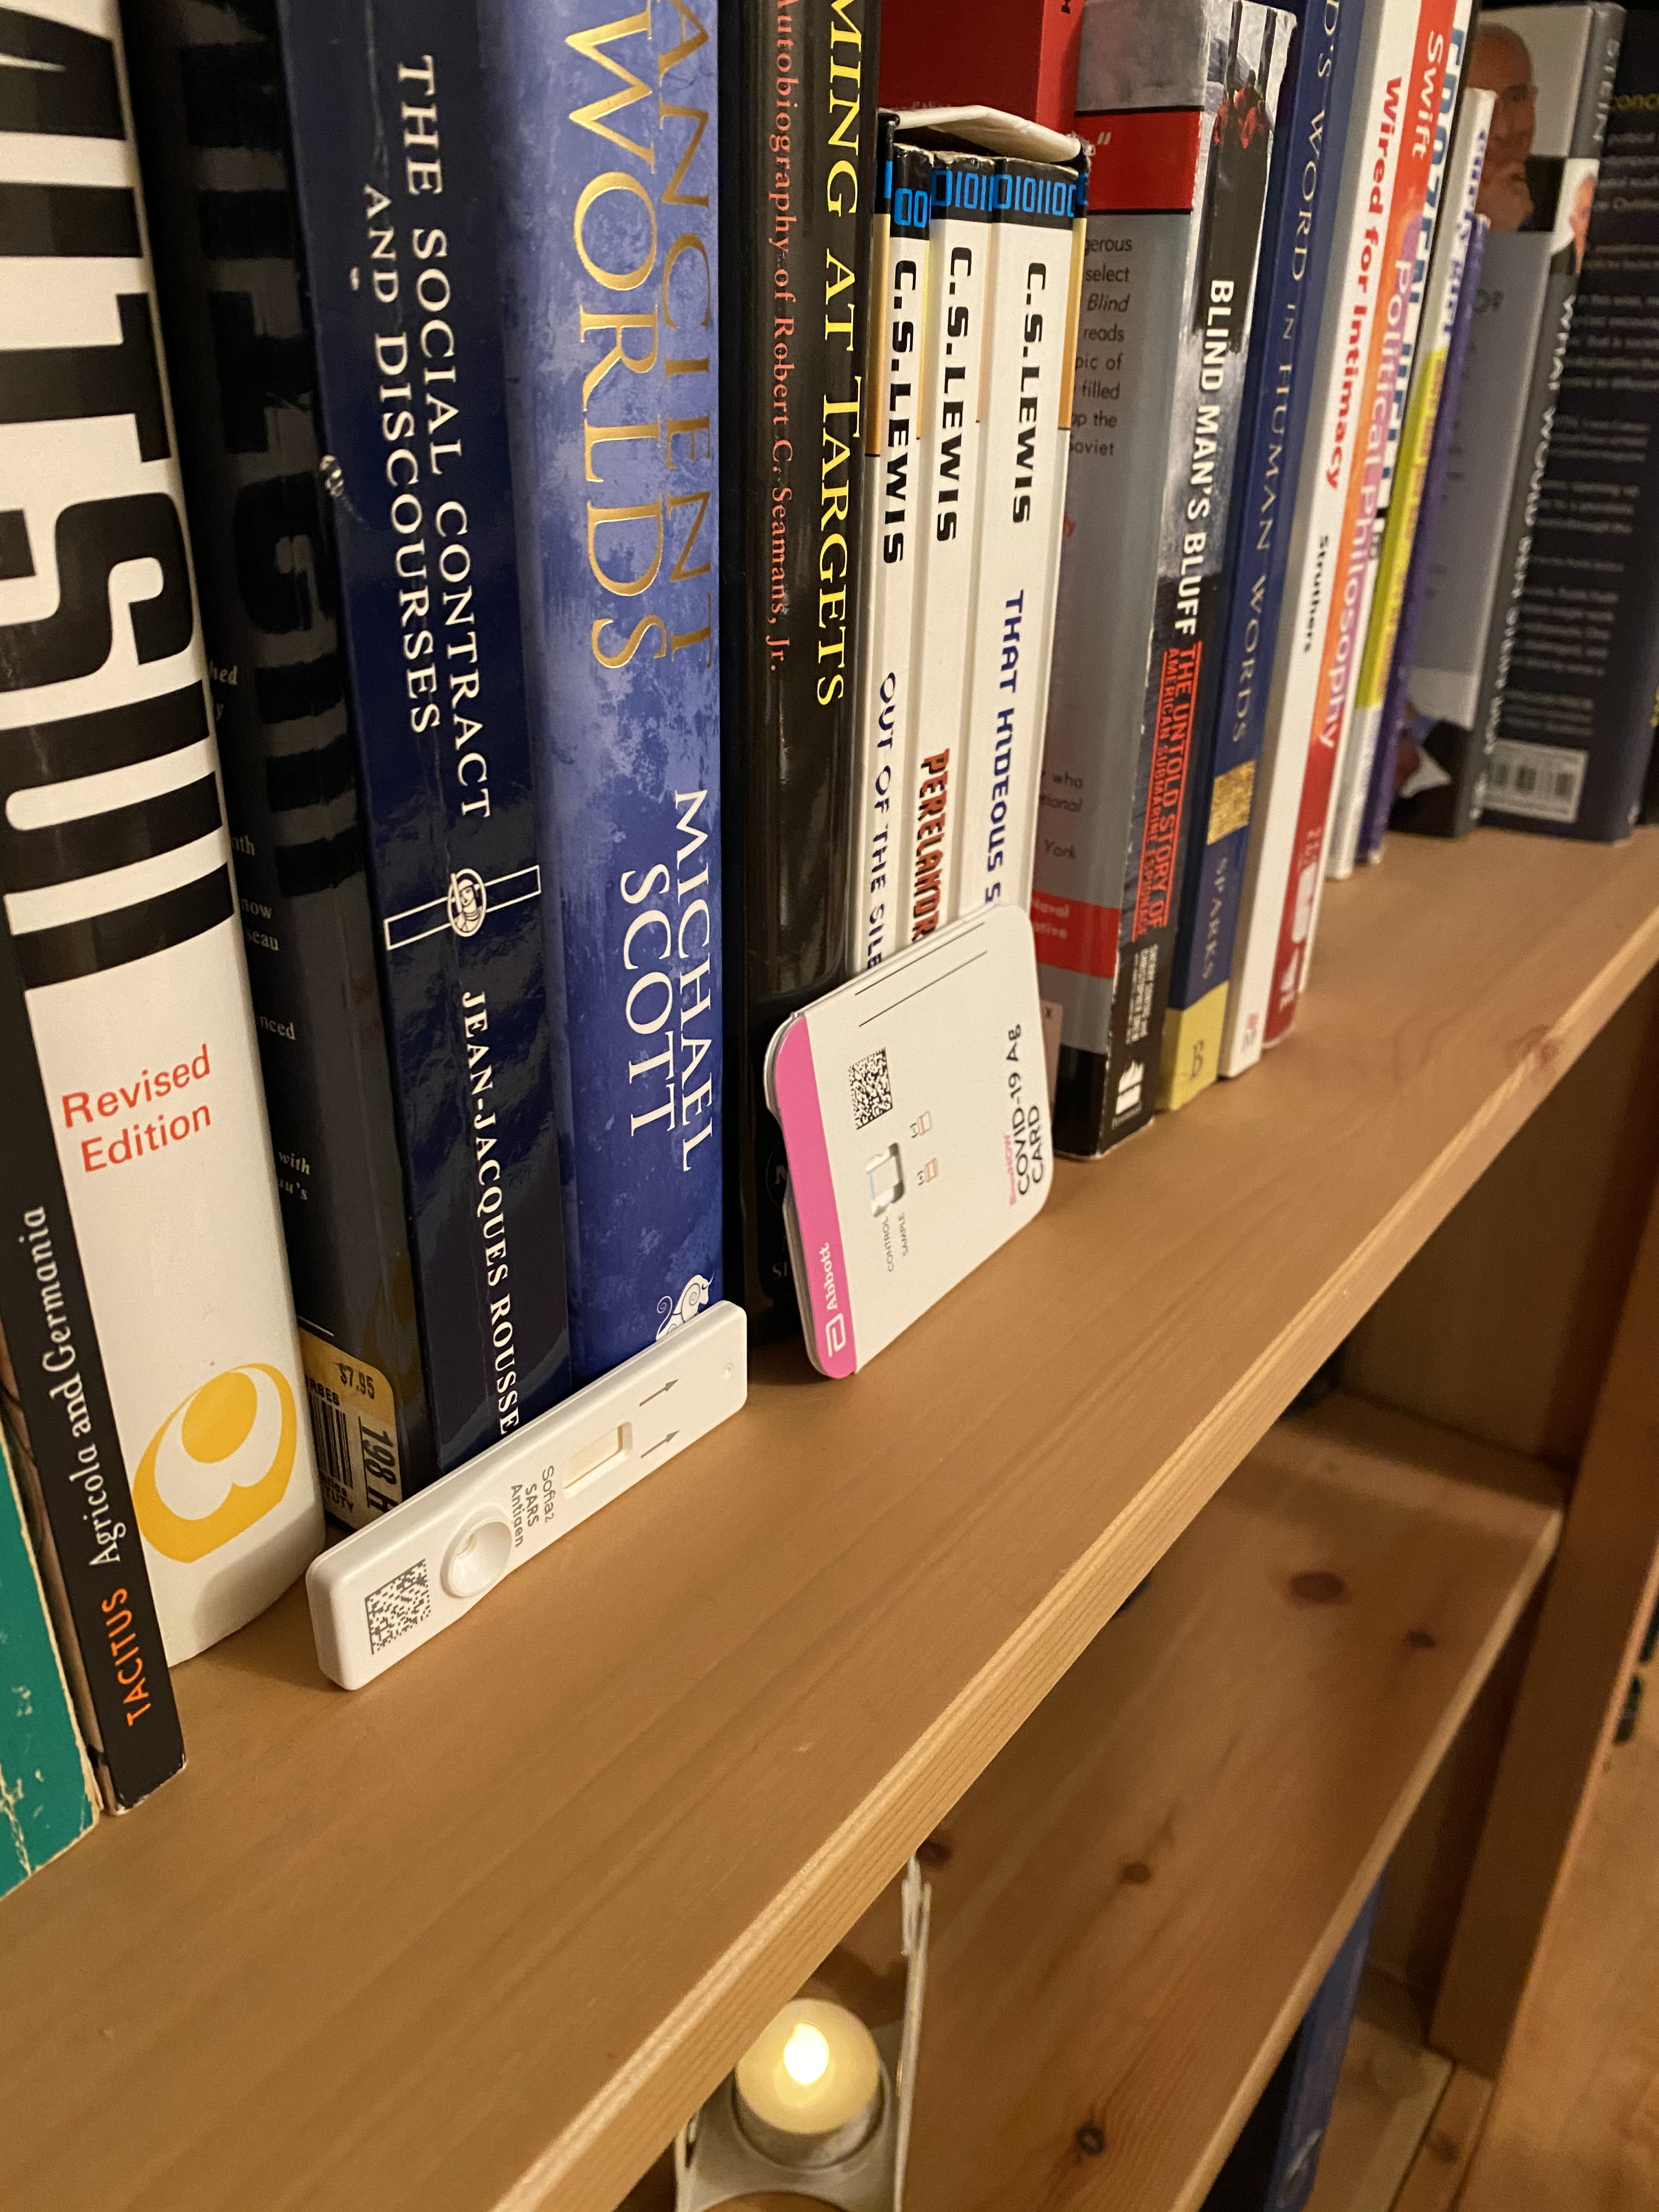binax: (753, 894, 1065, 1374)
quidel: (310, 1298, 762, 1683)
